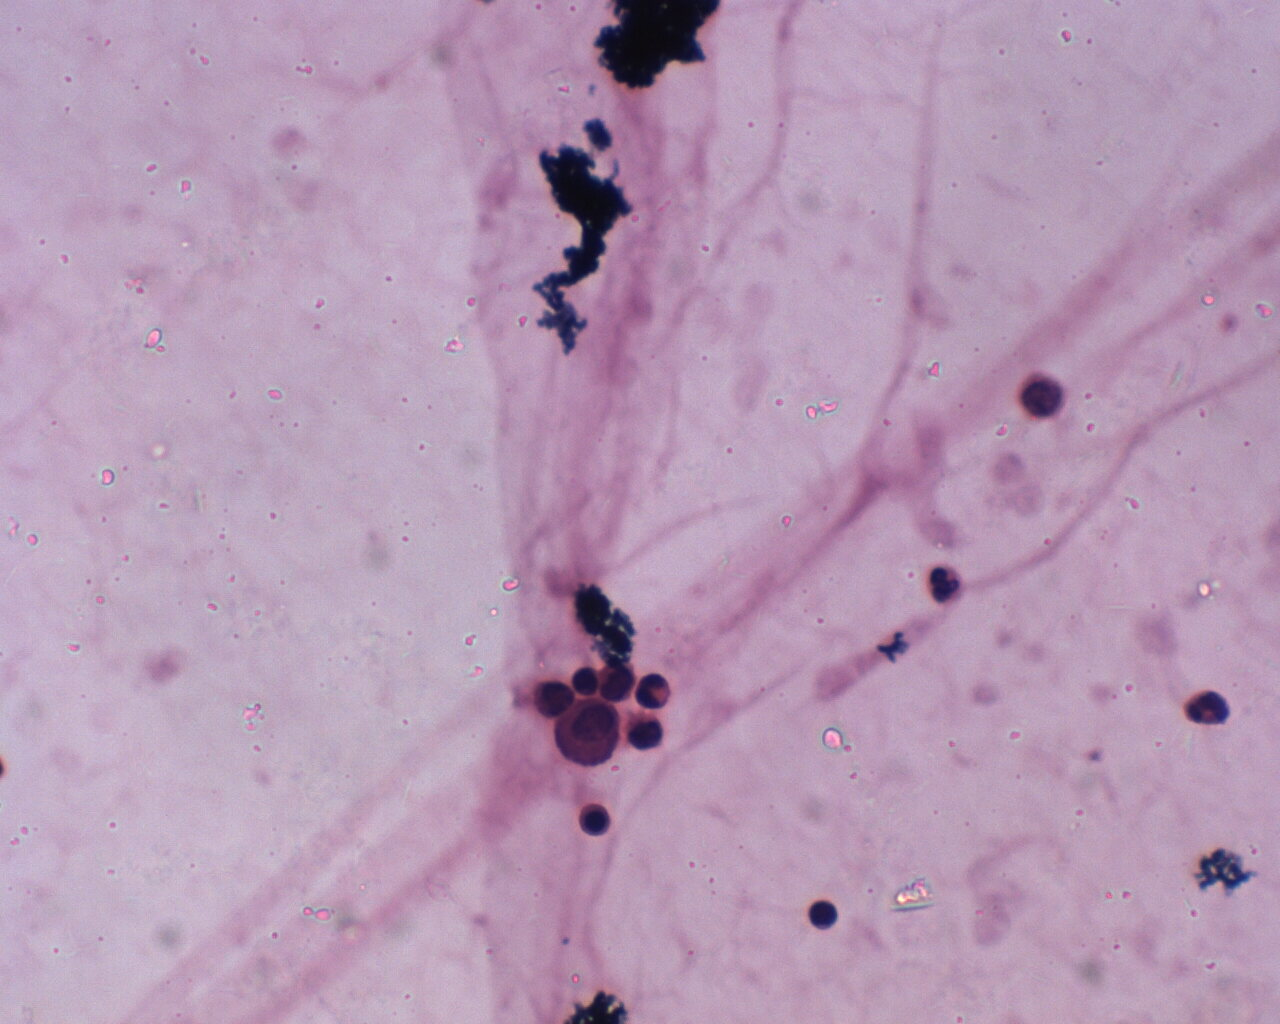ab: (556, 695, 621, 767)
lymph: (802, 895, 846, 931), (580, 804, 613, 840)
neutro: (1184, 686, 1231, 731), (928, 559, 965, 603), (634, 669, 676, 707)
